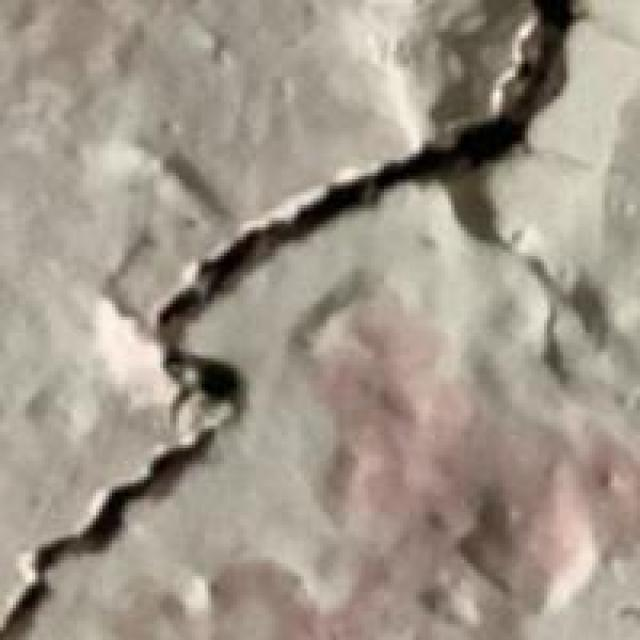Crack: (3, 0, 592, 637)
